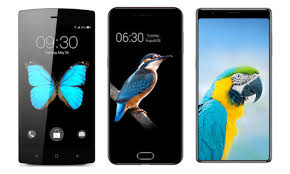bphone: (12, 5, 98, 167), (102, 5, 188, 167), (191, 4, 274, 165)
